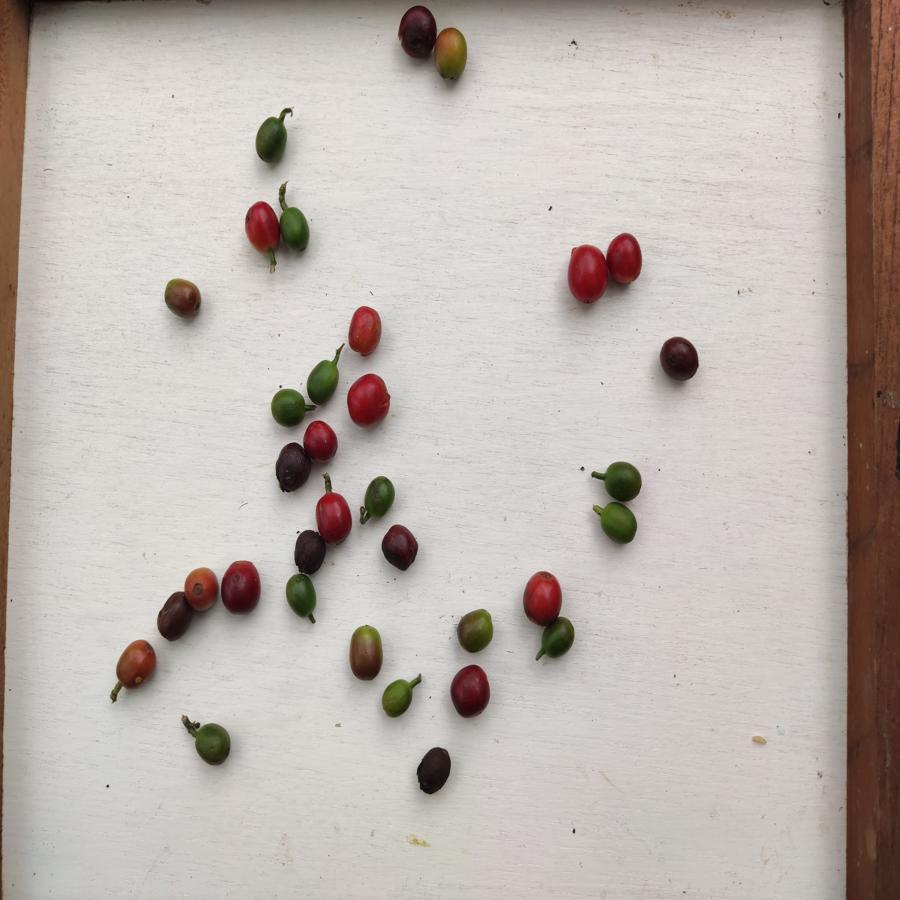Inmaduro: (599, 501, 639, 550), (605, 457, 644, 506), (278, 206, 314, 256), (253, 114, 288, 165), (194, 721, 231, 769), (303, 357, 340, 405), (381, 678, 417, 723), (285, 571, 316, 623), (362, 474, 396, 520), (268, 384, 303, 424), (545, 616, 574, 664)
Maduro: (566, 241, 609, 310), (345, 371, 394, 431), (519, 571, 564, 626), (241, 197, 280, 259), (606, 230, 646, 287), (314, 488, 353, 545), (346, 303, 385, 358), (303, 422, 341, 463)
Pinton: (114, 635, 156, 692), (436, 27, 470, 92), (348, 623, 385, 682), (454, 606, 496, 656), (186, 566, 219, 614), (163, 279, 202, 319)
Sobremaduro: (222, 559, 264, 618), (448, 664, 491, 721), (394, 3, 436, 61), (658, 333, 703, 384), (274, 441, 310, 496), (154, 591, 191, 644), (416, 746, 454, 797), (381, 524, 419, 573), (294, 529, 327, 571)
